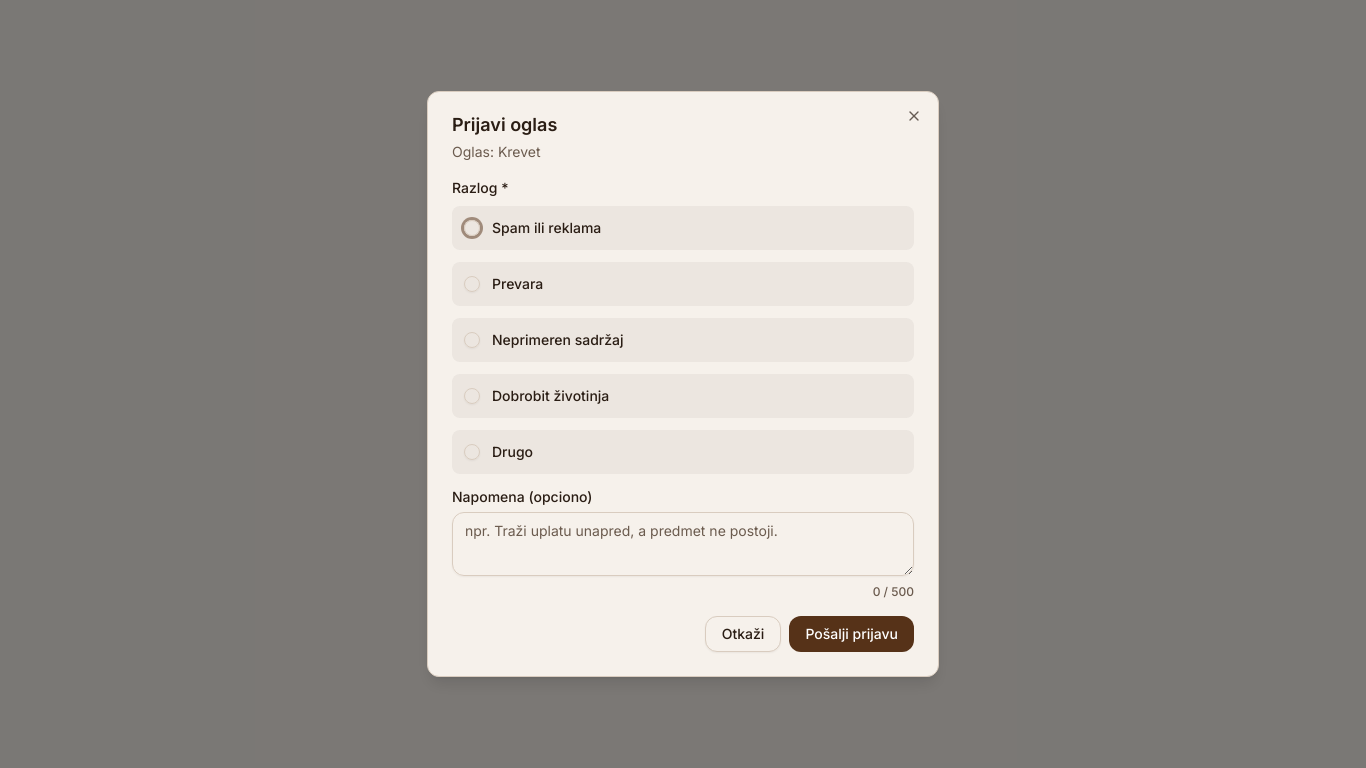
Test: ReportDialog › FR-70 #1: submits the reason and note, then confirms
Click the radio button named "Prevara" next to "Prevara" at (472, 284), box [464, 276, 480, 292]
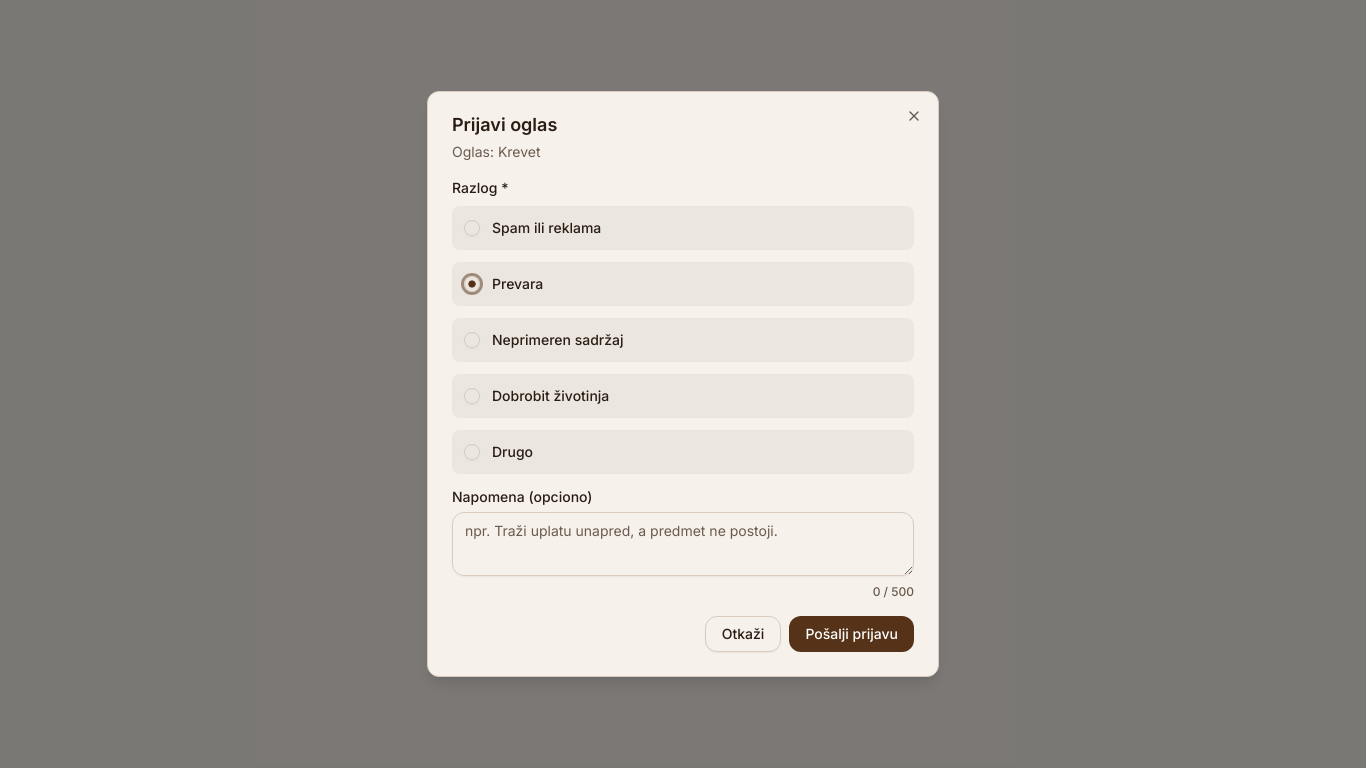
Type "  Traži uplatu unapred. " into the text box labelled "Napomena (opciono)" at (683, 544), box [452, 512, 914, 576]
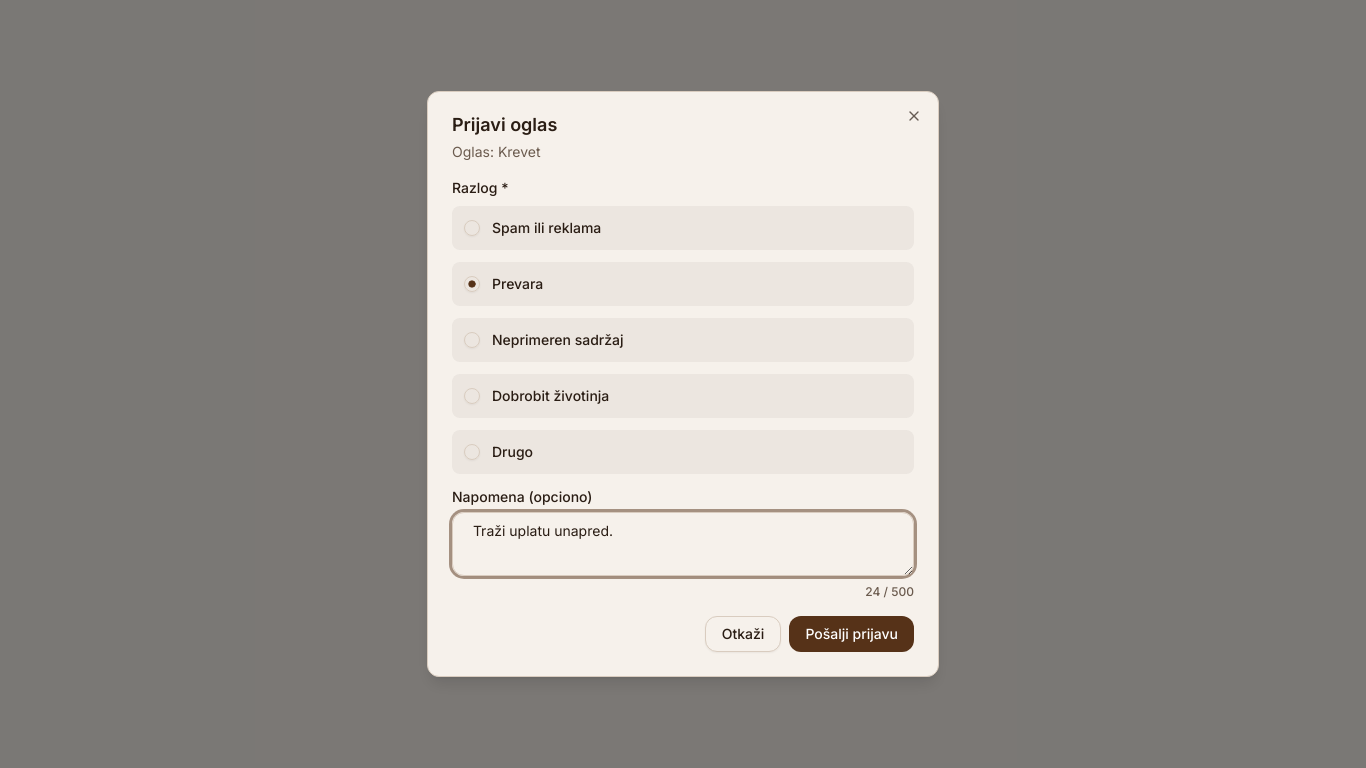
Click the button "Pošalji prijavu" at (852, 634), box [789, 616, 914, 652]
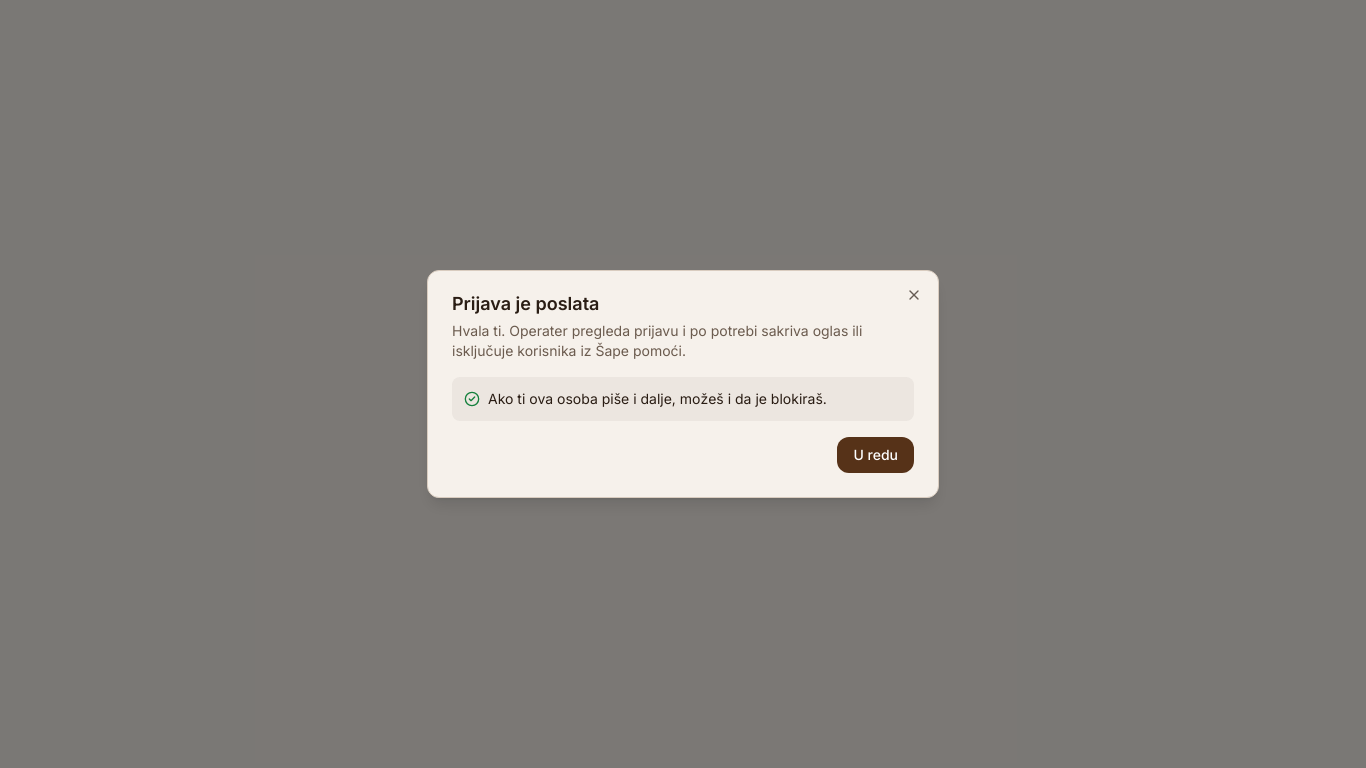
Check: the heading "Prijava je poslata" is shown, box [452, 293, 599, 314]
Check: the message reads "Ako ti ova osoba piše i dalje, možeš i da je blokiraš.", box [488, 390, 827, 407]
